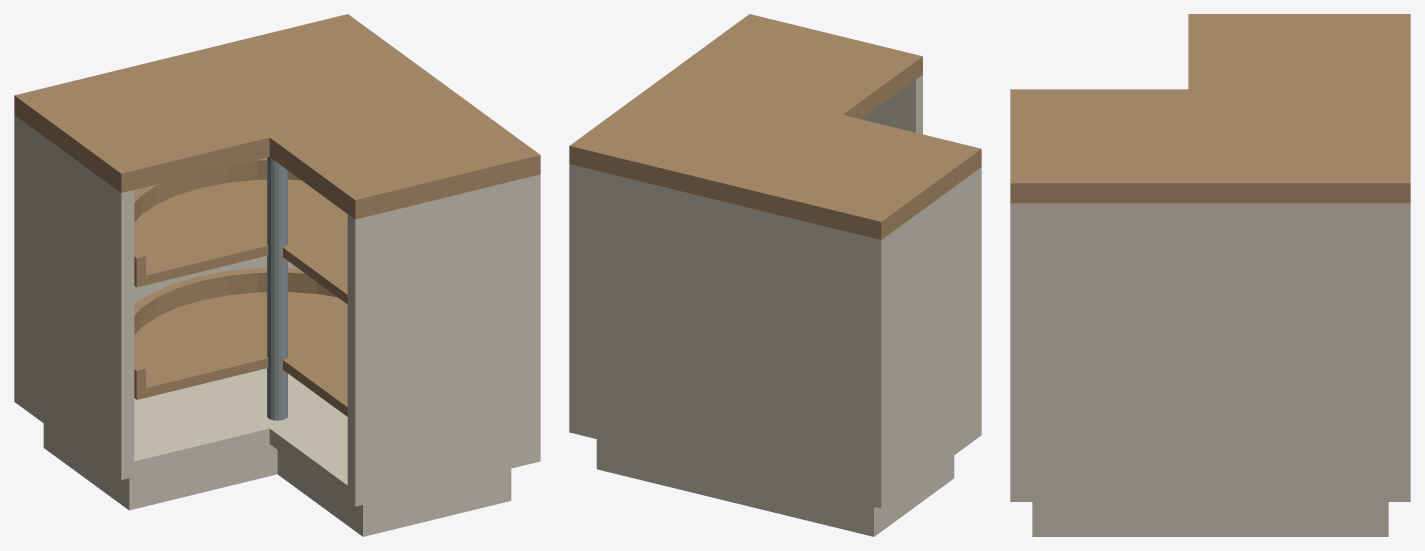
3 views of the same model, side by side, from view 1: azimuth 30°, elevation 25°; view 2: azimuth 150°, elevation 25°; view 3: azimuth 270°, elevation 25° (orthographic). The views are drawn at different scales.
Parts seen in each view (by area): view 1: WholeLAccessBody, WholeLShapedCountertop, LowerFixedSectorTray, UpperFixedSectorTray, RecessedLPlinth, FixedCentralPost; view 2: WholeLAccessBody, WholeLShapedCountertop, RecessedLPlinth; view 3: WholeLAccessBody, WholeLShapedCountertop, RecessedLPlinth.
Part boxes in pixels (box(x1,y1,x2,y2)): WholeLAccessBody: box(14, 115, 540, 506); WholeLShapedCountertop: box(14, 14, 540, 219); LowerFixedSectorTray: box(134, 268, 347, 416); UpperFixedSectorTray: box(134, 157, 347, 304); RecessedLPlinth: box(43, 423, 511, 536); FixedCentralPost: box(267, 157, 287, 420); WholeLAccessBody: box(569, 74, 981, 508); WholeLShapedCountertop: box(569, 14, 981, 239); RecessedLPlinth: box(596, 439, 954, 536); WholeLAccessBody: box(1010, 203, 1410, 501); WholeLShapedCountertop: box(1010, 14, 1410, 203); RecessedLPlinth: box(1032, 502, 1388, 536).
Size of the model in its own units: 0.9 by 0.9 by 0.9.
